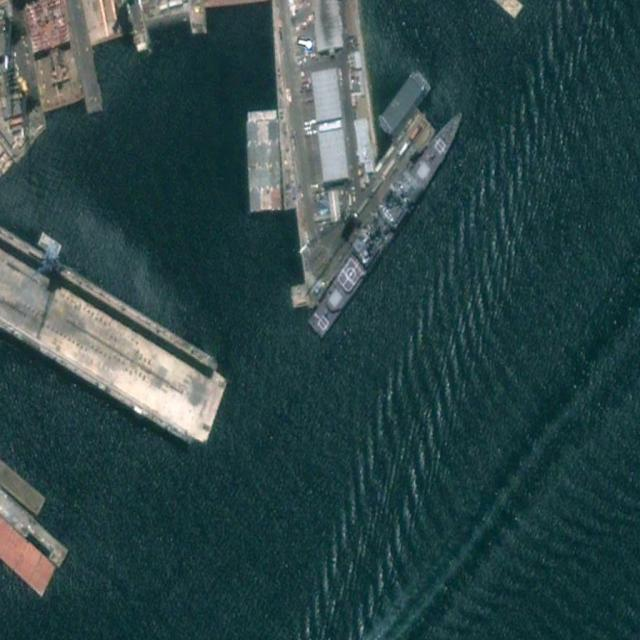Cruiser: (302, 95, 473, 342)
